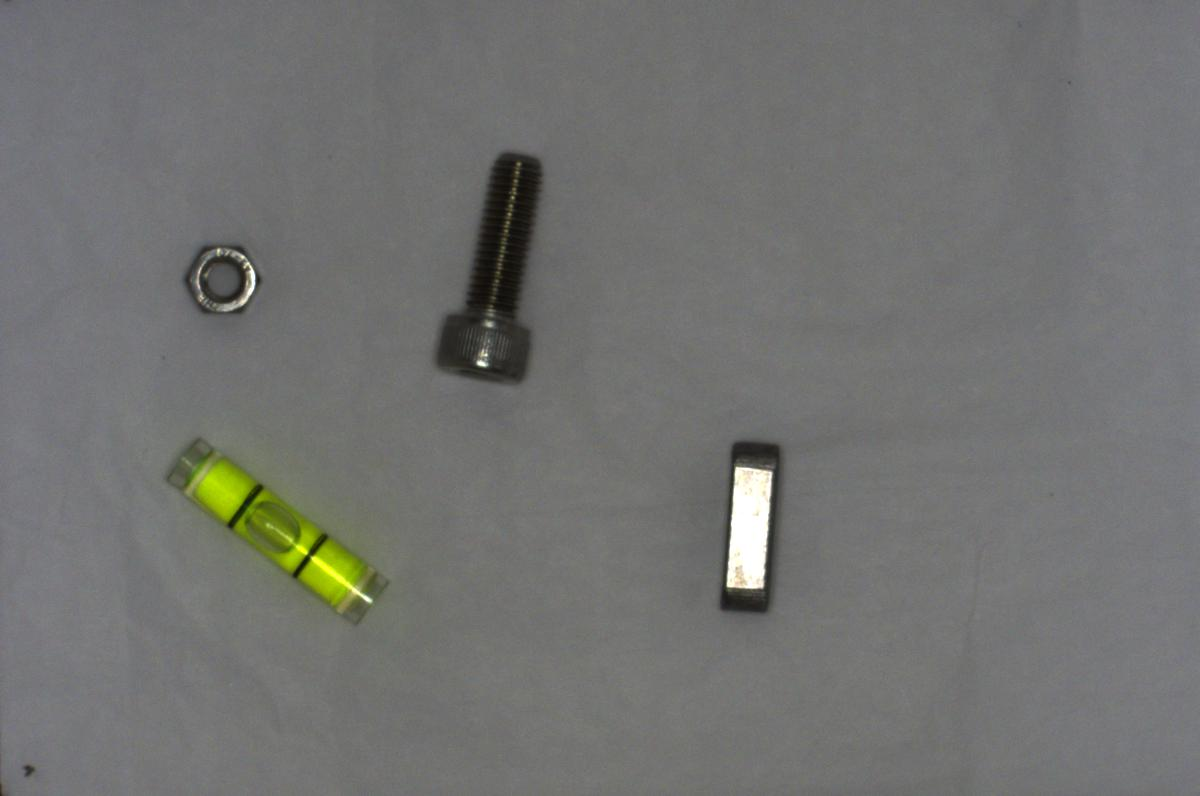Hexagon nut: (179, 236, 270, 318)
Hexagon screw: (422, 146, 550, 393)
Horizontal bubble: (158, 419, 388, 626)
Keybar: (711, 432, 794, 614)
